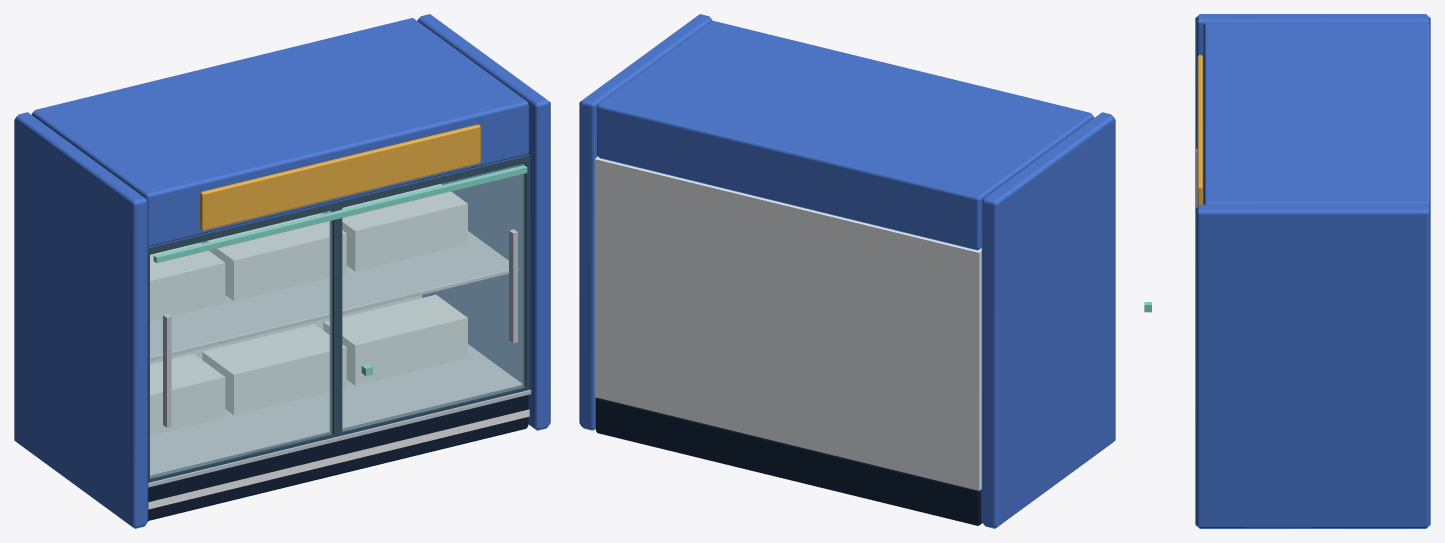
File: CM_Fixture_FreezerUpright_Far.fbx
The picture shows the model from 3 angles, left to right: view 1: azimuth 30°, elevation 25°; view 2: azimuth 150°, elevation 25°; view 3: azimuth 270°, elevation 25°; orthographic projection. The views are drawn at different scales.
Parts seen in each view (by area): view 1: Body, Glass; view 2: Body; view 3: Body.
Part boxes in pixels (x1,y1,x2,y2): Body: (14,14,550,528); Glass: (150,163,524,478); Body: (579,14,1115,528); Body: (1195,14,1430,528).
Bounding box in the file's own units: 12 × 7.3 × 9.
Materials: 2 (2 with a texture image).
